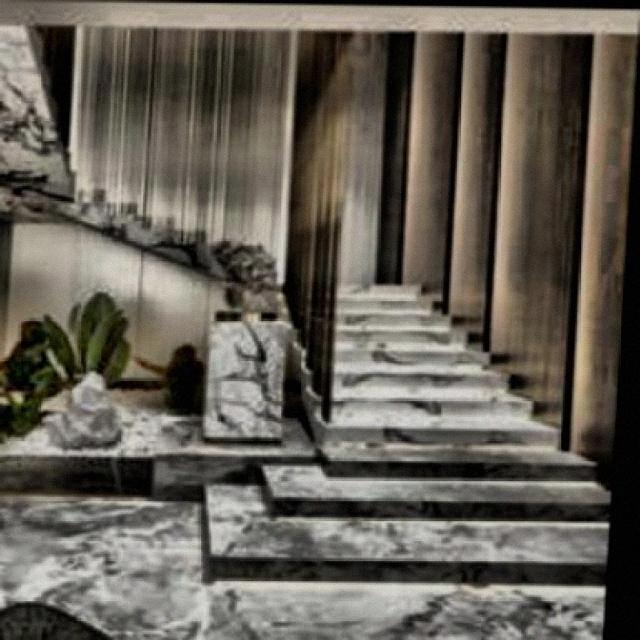stair: (280, 272, 603, 537)
